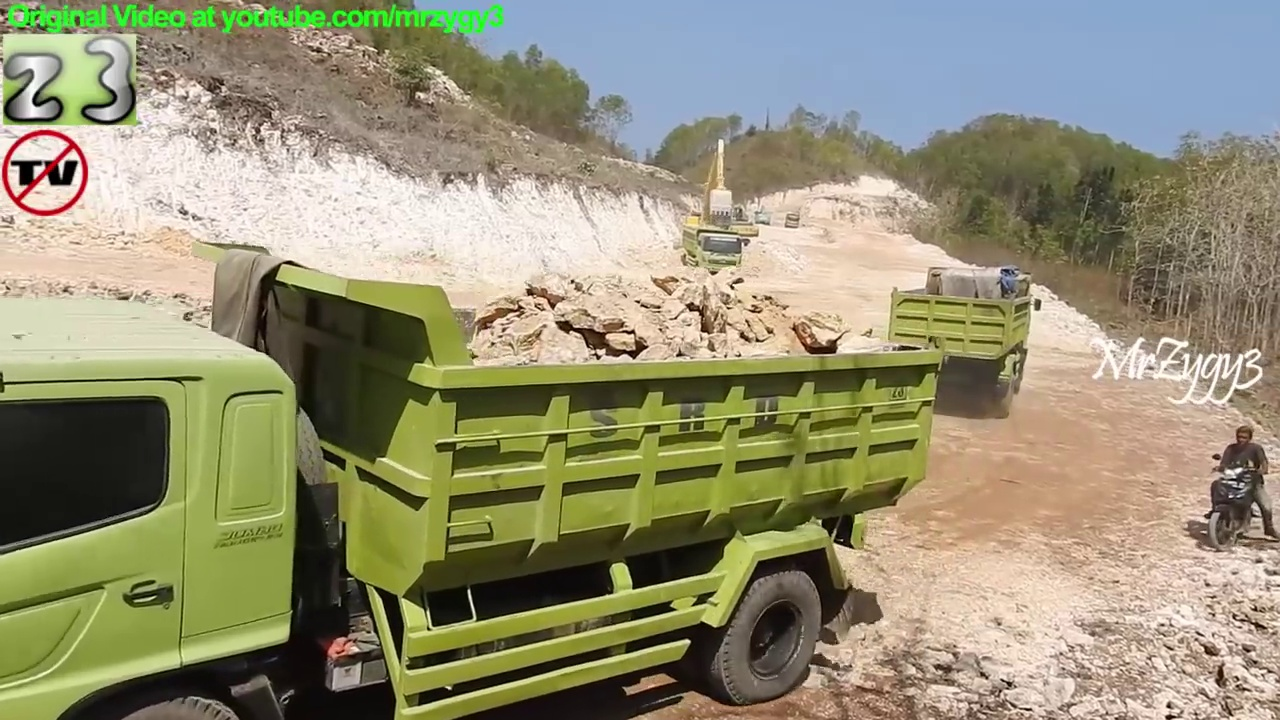excavator: (679, 136, 740, 245), (691, 192, 761, 241), (750, 196, 774, 228)
truck: (1, 233, 953, 720), (885, 262, 1046, 423), (678, 226, 750, 283), (784, 209, 805, 236)
